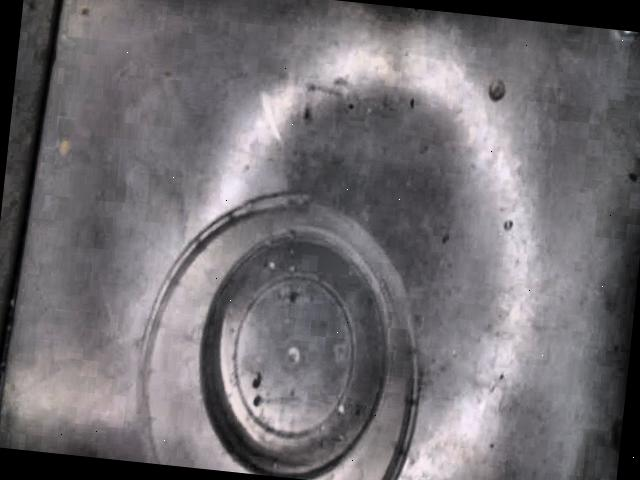Plastic: (130, 191, 426, 480)
